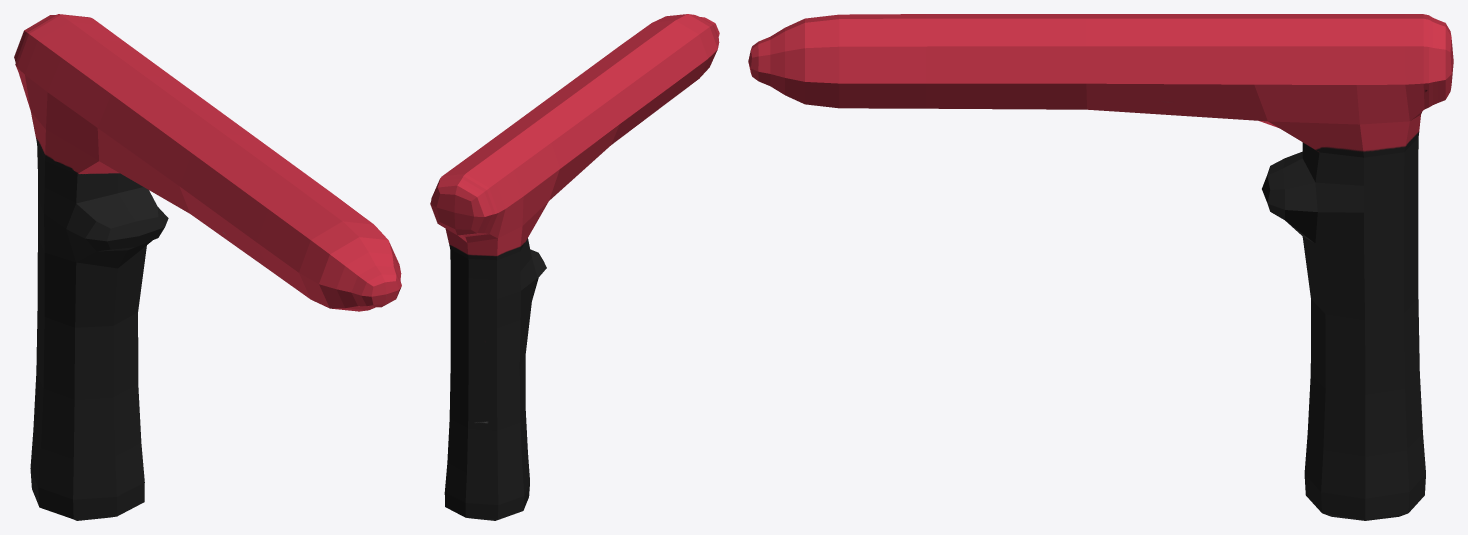
Rendered from guntextured.glb.
3 renders of one model, left to right at view 1: azimuth 30°, elevation 25°; view 2: azimuth 150°, elevation 25°; view 3: azimuth 270°, elevation 25°, orthographic. The views are drawn at different scales.
Parts seen in each view (by area): view 1: Cube; view 2: Cube; view 3: Cube.
Part boxes in pixels (x1=…): Cube: x1=14, y1=14, x2=401, y2=520; Cube: x1=430, y1=14, x2=719, y2=520; Cube: x1=748, y1=14, x2=1453, y2=520.
Bounding box in the file's own units: 2.05 × 9.31 × 12.21.
Materials: 1 (1 with a texture image).
